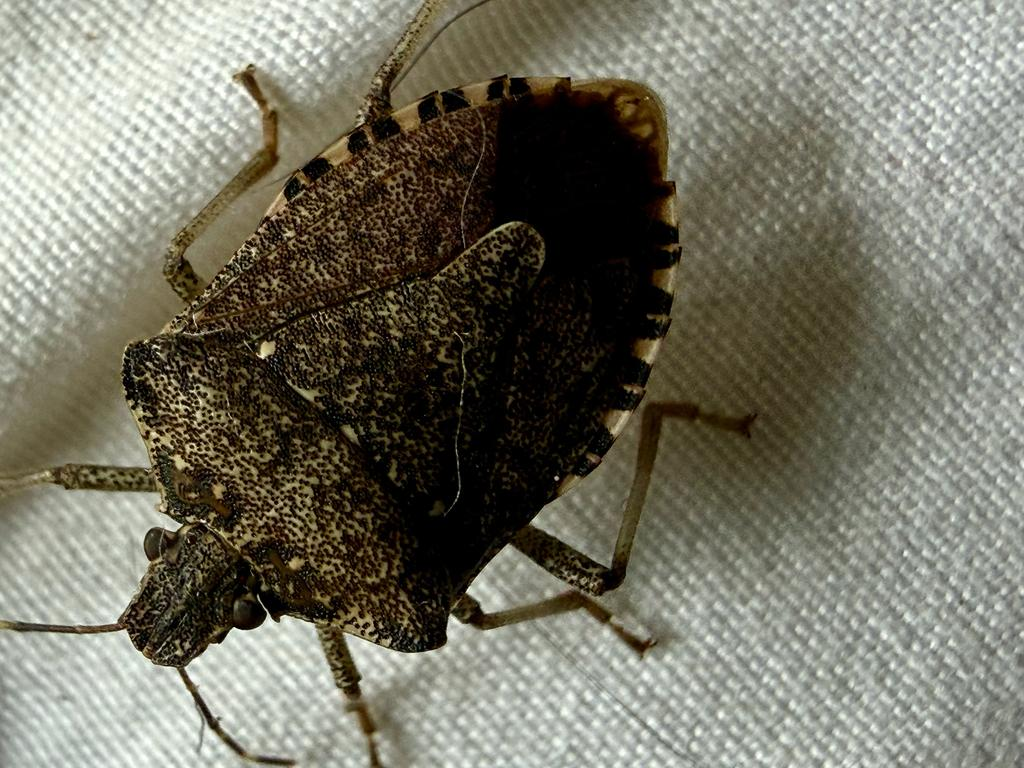stink_bugs: (0, 0, 836, 768)
